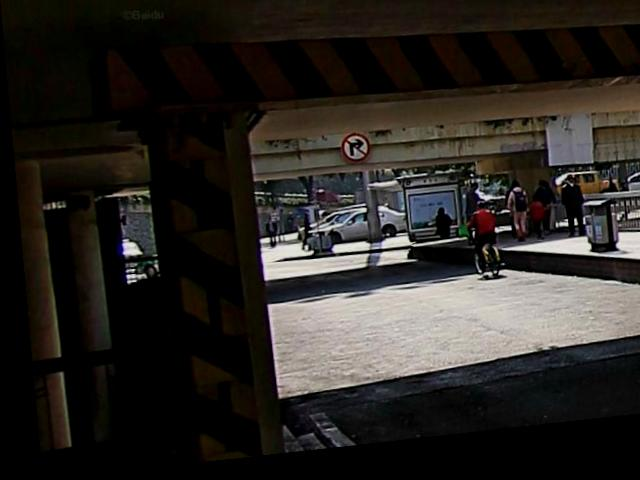not_turn_right: (334, 136, 372, 173)
